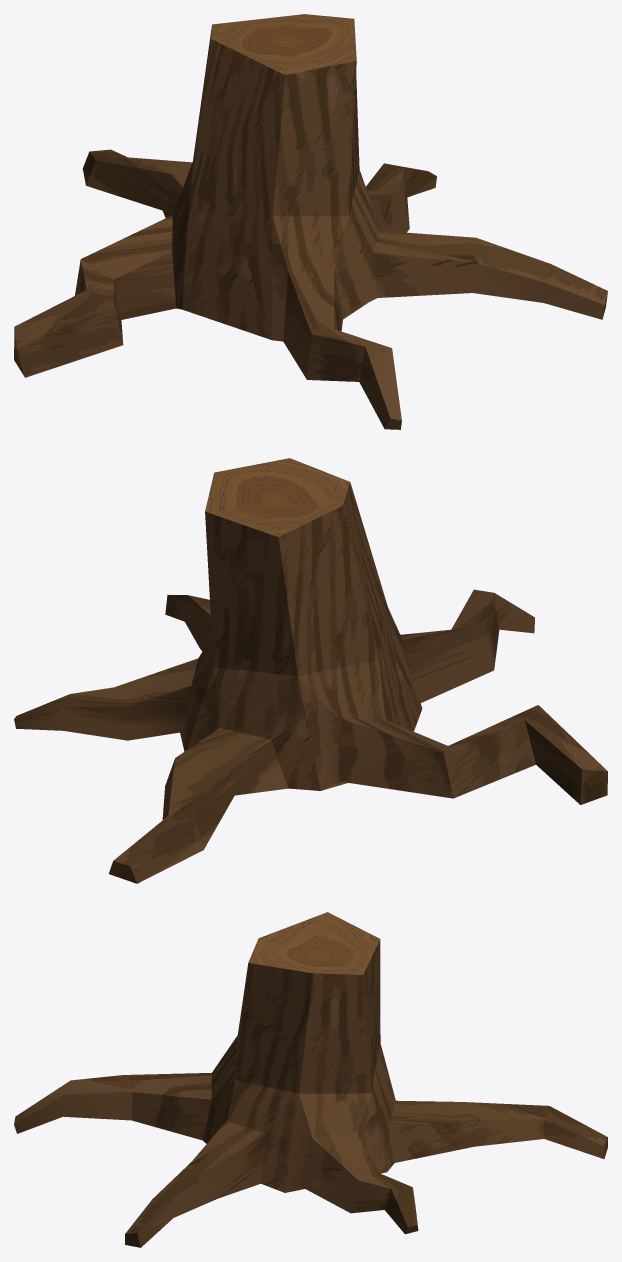
File: TreeStump.obj
The picture shows the model from 3 angles, top to bottom: view 1: azimuth 30°, elevation 25°; view 2: azimuth 150°, elevation 25°; view 3: azimuth 270°, elevation 25°; orthographic projection. The views are drawn at different scales.
Parts seen in each view (by area): view 1: pasted__pSphere1; view 2: pasted__pSphere1; view 3: pasted__pSphere1.
Part boxes in pixels (x1,y1,x2,y2): pasted__pSphere1: (14, 14, 607, 429); pasted__pSphere1: (14, 458, 607, 883); pasted__pSphere1: (14, 912, 607, 1247).
Size of the model in its own units: 8.84 by 4.29 by 10.47.
